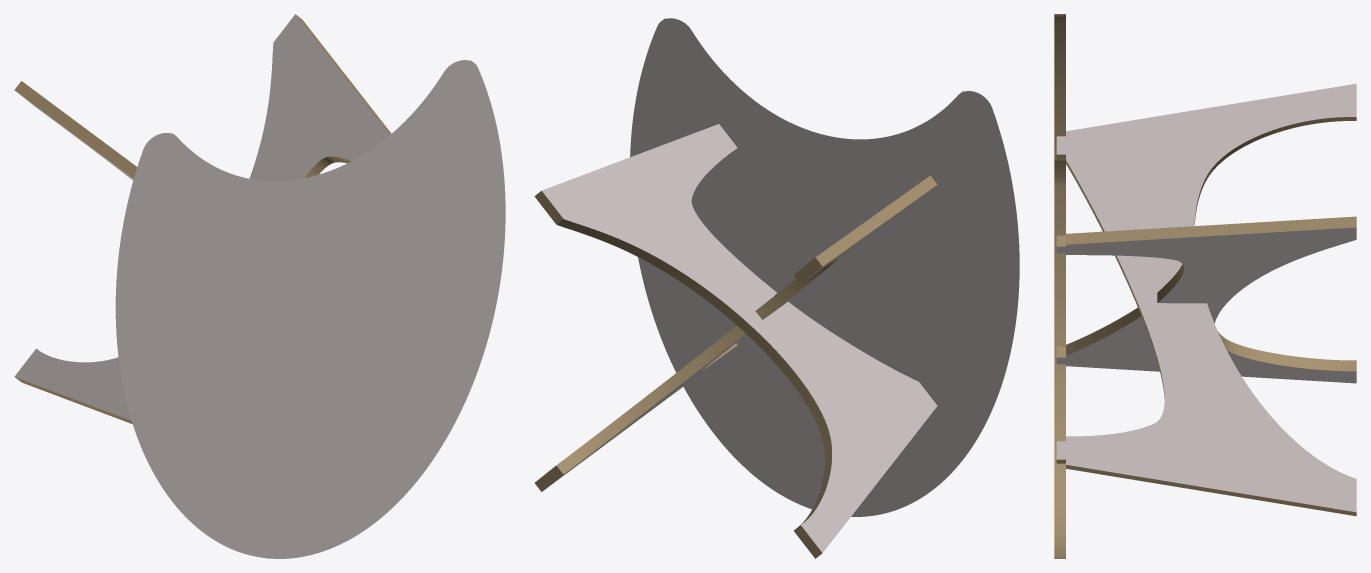
Rendered from NODO_MESA_RATONA_EN_CRUZ_PARAISO_V9.glb.
3 views of the same model, side by side, from view 1: azimuth 30°, elevation 25°; view 2: azimuth 150°, elevation 25°; view 3: azimuth 270°, elevation 25° (orthographic).
Parts seen in each view (by area): view 1: Tapa_cuerpo, Pata_A_cuerpo, Pata_B_canto, Pata_A_canto; view 2: Tapa_cuerpo, Pata_A_cuerpo, Pata_B_canto, Pata_A_canto, Pata_B_cuerpo; view 3: Pata_B_cuerpo, Pata_A_cuerpo, Pata_A_canto, Tapa_canto, Pata_B_canto.
Part boxes in pixels (<box>): Tapa_cuerpo: <box>115,60,505,558</box>; Pata_A_cuerpo: <box>14,14,389,420</box>; Pata_B_canto: <box>14,81,137,178</box>; Pata_A_canto: <box>15,15,391,423</box>; Tapa_cuerpo: <box>630,18,1019,516</box>; Pata_A_cuerpo: <box>542,124,937,552</box>; Pata_B_canto: <box>535,175,937,491</box>; Pata_A_canto: <box>534,149,831,558</box>; Pata_B_cuerpo: <box>545,187,933,489</box>; Pata_B_cuerpo: <box>1056,83,1356,512</box>; Pata_A_cuerpo: <box>1056,227,1356,383</box>; Pata_A_canto: <box>1056,216,1356,371</box>; Tapa_canto: <box>1054,14,1065,558</box>; Pata_B_canto: <box>1056,117,1356,516</box>.
Size of the model in its own units: 0.6924 by 0.7771 by 0.468.
